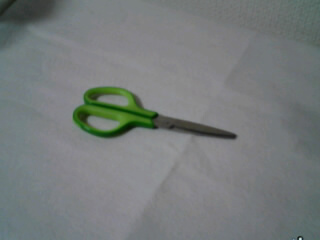003_classes: (68, 82, 258, 157)
